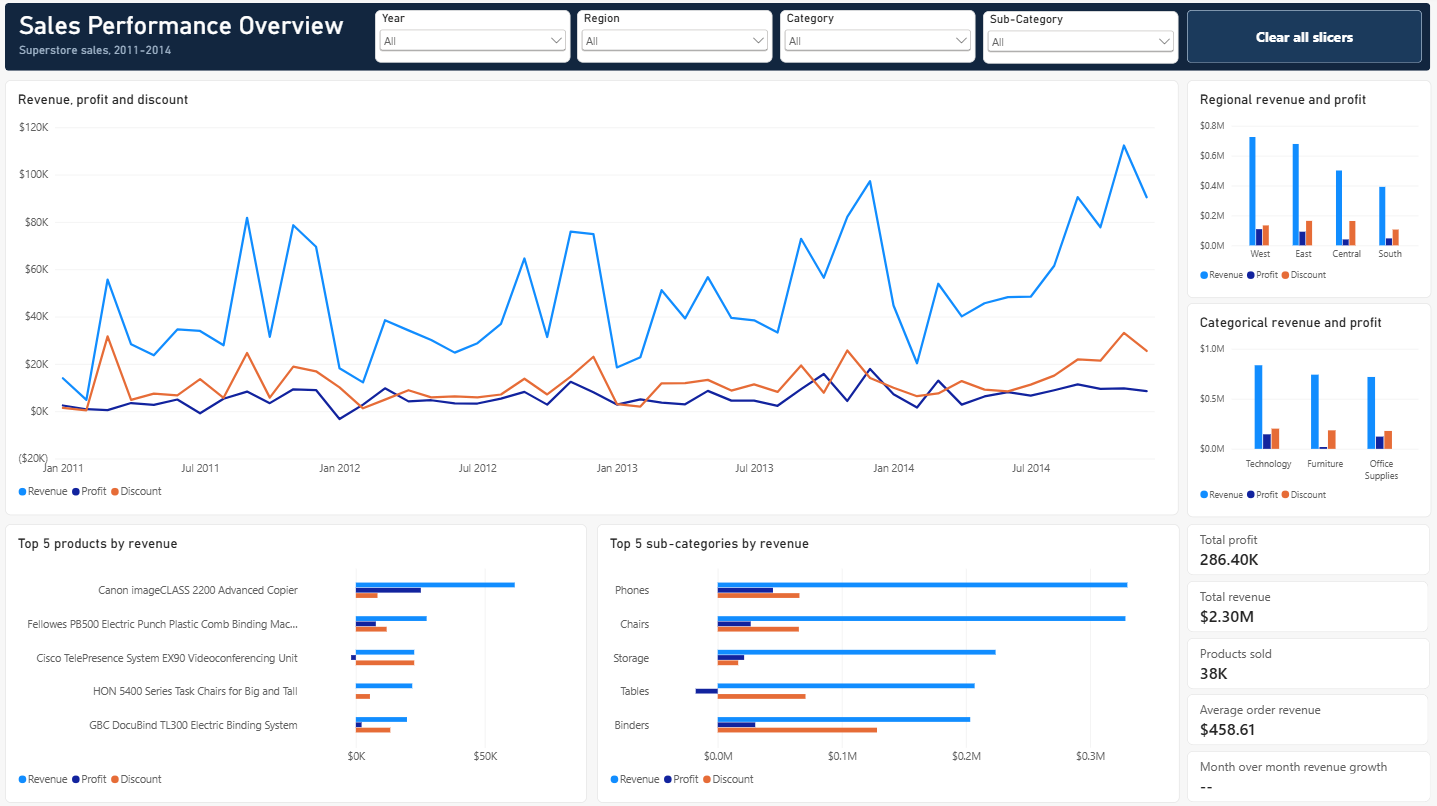

What the dashboard file says about the page in this screenshot:
{"tool":"powerbi","page":{"name":"Sales Performance Overview","canvas":[1920,1080],"ordinal":0},"visuals":[{"type":"shape","box":[12.2,8.8,1895.7,90],"z":0},{"type":"slicer","fields":{"Values":["Date.Year"]},"box":[504.1,18,260,70.5],"z":0,"group":"g3"},{"type":"cardVisual","fields":{"Data":["Sales Data Dashboard - Staging.Total Revenue"]},"box":[1584.1,777.3,321.6,68.7],"z":0,"group":"g2"},{"type":"slicer","fields":{"Values":["Sales Data Dashboard - Staging.Region"]},"box":[772.8,18,260,70],"z":1000,"group":"g3"},{"type":"lineChart","title":"Revenue, profit and discount","fields":{"Category":["Date.Date.Variation.Date Hierarchy.Year","Date.Date.Variation.Date Hierarchy.Quarter","Date.Date.Variation.Date Hierarchy.Month"],"Y":["Sum(Sales Data Dashboard - Staging.Sales)","Sum(Sales Data Dashboard - Staging.Profit)","Sum(Sales Data Dashboard - Staging.Discount value)"]},"box":[12,111.1,1561.5,578.6],"z":1000},{"type":"slicer","fields":{"Values":["Sales Data Dashboard - Staging.Category"]},"box":[1042.8,18,260,70],"z":2000,"group":"g3"},{"type":"cardVisual","fields":{"Data":["Sales Data Dashboard - Staging.Units Sold"]},"box":[1584.1,852.9,323.1,68.7],"z":2000,"group":"g2"},{"type":"actionButton","box":[1584.1,18,312.6,70.5],"z":3000},{"type":"slicer","fields":{"Values":["Sales Data Dashboard - Staging.Sub-Category"]},"box":[1312.8,19,260,70],"z":3000,"group":"g3"},{"type":"group","id":"g1","title":"Group 2","box":[30,20.5,446.9,66.2],"z":4000},{"type":"clusteredBarChart","title":"Top 5 products by revenue","fields":{"Category":["Sales Data Dashboard - Staging.Product Name"],"Y":["Sum(Sales Data Dashboard - Staging.Sales)","Sum(Sales Data Dashboard - Staging.Profit)","Sum(Sales Data Dashboard - Staging.Discount value)"]},"box":[12,701.7,774.1,371.1],"z":5000},{"type":"cardVisual","fields":{"Data":["Sales Data Dashboard - Staging.Average Order Value"]},"box":[1584.1,928.5,321.6,68.7],"z":5000,"group":"g2"},{"type":"clusteredColumnChart","title":"Regional revenue and profit","fields":{"Category":["Sales Data Dashboard - Staging.Region"],"Y":["Sum(Sales Data Dashboard - Staging.Sales)","Sum(Sales Data Dashboard - Staging.Profit)","Sum(Sales Data Dashboard - Staging.Discount value)"]},"box":[1584.1,111.1,324.5,290],"z":6000},{"type":"clusteredBarChart","title":"Top 5 sub-categories by revenue","fields":{"Category":["Sales Data Dashboard - Staging.Sub-Category"],"Y":["Sum(Sales Data Dashboard - Staging.Sales)","Sum(Sales Data Dashboard - Staging.Profit)","Sum(Sales Data Dashboard - Staging.Discount value)"]},"box":[799.4,701.7,775.4,371.1],"z":7000},{"type":"group","id":"g2","title":"Group 1","box":[1584.1,701.7,324.5,371.1],"z":8000},{"type":"clusteredColumnChart","title":"Categorical revenue and profit","fields":{"Category":["Sales Data Dashboard - Staging.Category"],"Y":["Sum(Sales Data Dashboard - Staging.Sales)","Sum(Sales Data Dashboard - Staging.Profit)","Sum(Sales Data Dashboard - Staging.Discount value)"]},"box":[1584.1,407.7,324.5,285],"z":9000},{"type":"group","id":"g3","title":"Group 4","box":[504.1,18,1069.4,71.8],"z":10000},{"type":"shape","title":"Sales Performance Overview","box":[30,20.5,446.9,36.5],"z":10000,"group":"g1"},{"type":"shape","title":"Superstore sales, 2011-2014","box":[30,63.7,224.1,23],"z":11000,"group":"g1"},{"type":"cardVisual","title":"test","fields":{"Data":["Sales Data Dashboard - Staging.Card Month over Month Growth"]},"box":[1584.1,1004,324.5,68.7],"z":13000,"group":"g2"},{"type":"cardVisual","fields":{"Data":["Sales Data Dashboard - Staging.Total Profit"]},"box":[1584.1,701.7,323.1,68.7],"z":14000,"group":"g2"}]}

Visuals, with their boxes in screenshot pixels (x1, y1, x2, y2), scaled from the page's 1920x1080 canvas onto the 1437x806 screenshot:
shape: BBox(9, 7, 1428, 74)
slicer - Date.Year: BBox(377, 13, 572, 66)
cardVisual - Sales Data Dashboard - Staging.Total Revenue: BBox(1186, 580, 1426, 631)
slicer - Sales Data Dashboard - Staging.Region: BBox(578, 13, 773, 66)
"Revenue, profit and discount" lineChart: BBox(9, 83, 1178, 515)
slicer - Sales Data Dashboard - Staging.Category: BBox(780, 13, 975, 66)
cardVisual - Sales Data Dashboard - Staging.Units Sold: BBox(1186, 637, 1427, 688)
actionButton: BBox(1186, 13, 1420, 66)
slicer - Sales Data Dashboard - Staging.Sub-Category: BBox(983, 14, 1177, 66)
"Group 2" group: BBox(22, 15, 357, 65)
"Top 5 products by revenue" clusteredBarChart: BBox(9, 524, 588, 801)
cardVisual - Sales Data Dashboard - Staging.Average Order Value: BBox(1186, 693, 1426, 744)
"Regional revenue and profit" clusteredColumnChart: BBox(1186, 83, 1428, 299)
"Top 5 sub-categories by revenue" clusteredBarChart: BBox(598, 524, 1179, 801)
"Group 1" group: BBox(1186, 524, 1428, 801)
"Categorical revenue and profit" clusteredColumnChart: BBox(1186, 304, 1428, 517)
"Group 4" group: BBox(377, 13, 1178, 67)
"Sales Performance Overview" shape: BBox(22, 15, 357, 43)
"Superstore sales, 2011-2014" shape: BBox(22, 48, 190, 65)
"test" cardVisual: BBox(1186, 749, 1428, 801)
cardVisual - Sales Data Dashboard - Staging.Total Profit: BBox(1186, 524, 1427, 575)
